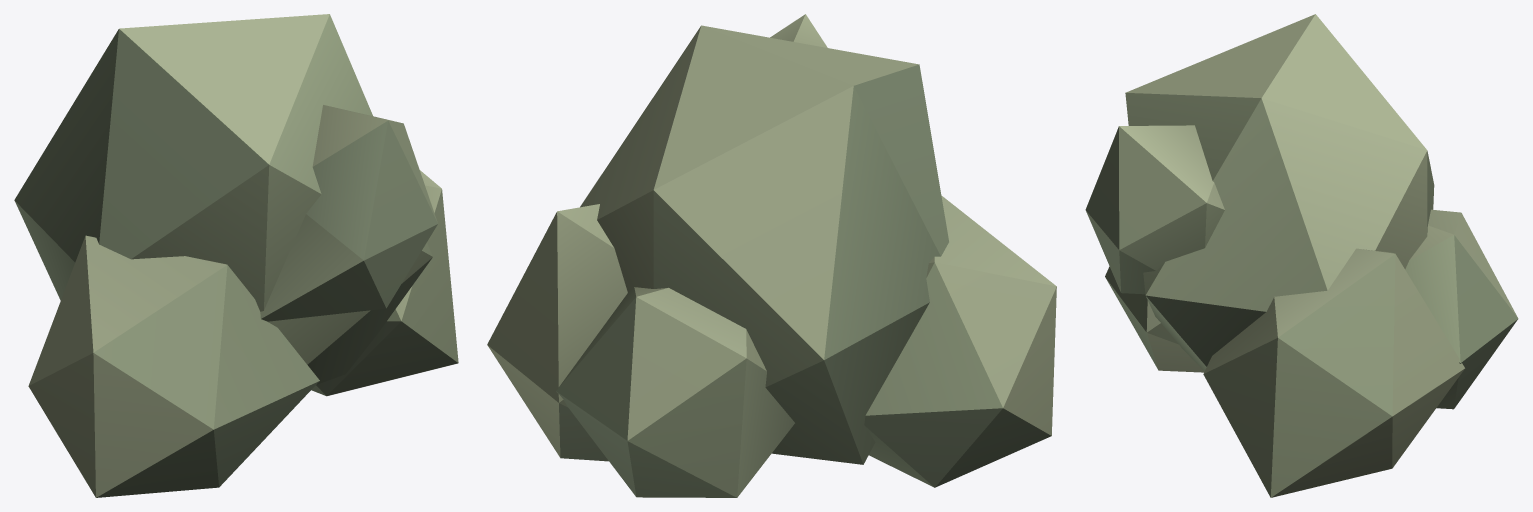
The model's file is shrub.lod1.glb.
3 renders of one model, left to right at view 1: azimuth 30°, elevation 25°; view 2: azimuth 150°, elevation 25°; view 3: azimuth 270°, elevation 25°, orthographic. The views are drawn at different scales.
Size of the model in its own units: 1.08 by 0.9427 by 1.05.
